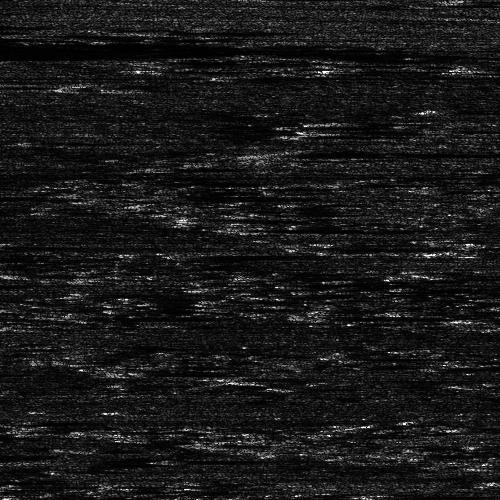object: (179, 222, 294, 233), (244, 53, 369, 62), (211, 148, 326, 157), (119, 248, 224, 257), (445, 163, 500, 180), (345, 487, 398, 500), (412, 313, 500, 320), (265, 311, 348, 318), (265, 240, 328, 249), (86, 367, 149, 374), (318, 496, 371, 500), (129, 60, 170, 65)
shadow: (0, 39, 390, 58), (269, 148, 500, 157), (237, 222, 425, 233), (372, 487, 486, 500), (297, 240, 412, 249), (307, 53, 420, 62), (172, 248, 280, 257), (307, 311, 421, 318), (118, 367, 186, 374), (0, 451, 61, 458), (0, 474, 27, 487), (345, 496, 420, 500), (458, 313, 500, 320), (150, 60, 185, 65)
